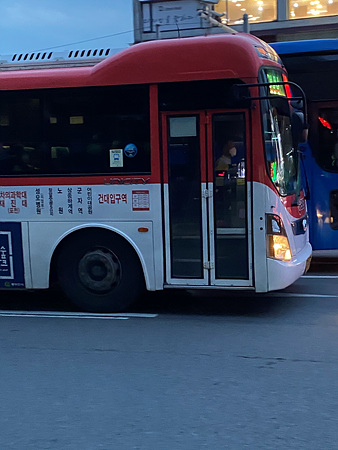entrance: (157, 86, 258, 289)
